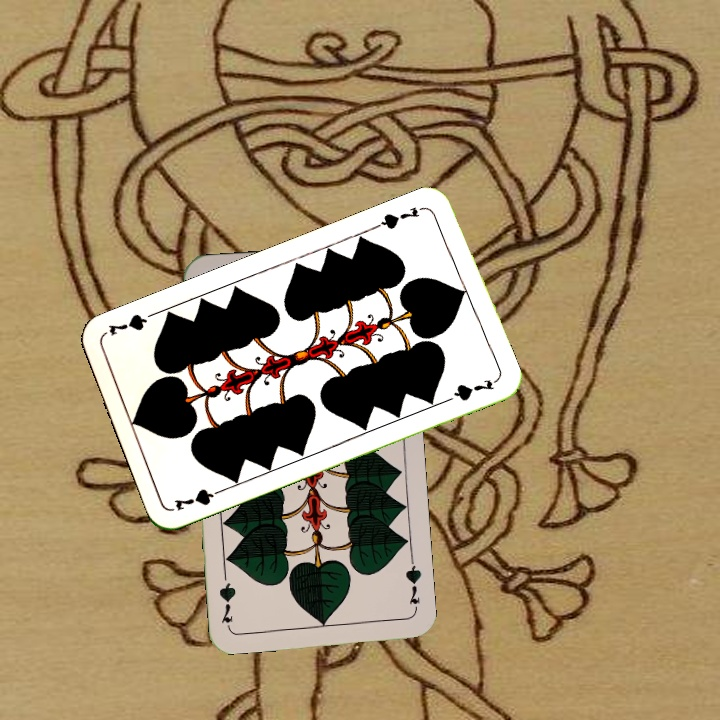G7: (372, 202, 429, 232), (170, 484, 228, 513), (402, 555, 424, 614)
